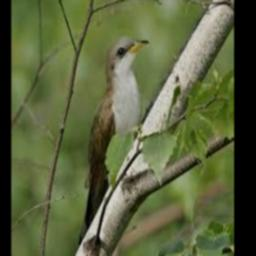Cuckoo: (78, 36, 149, 247)
